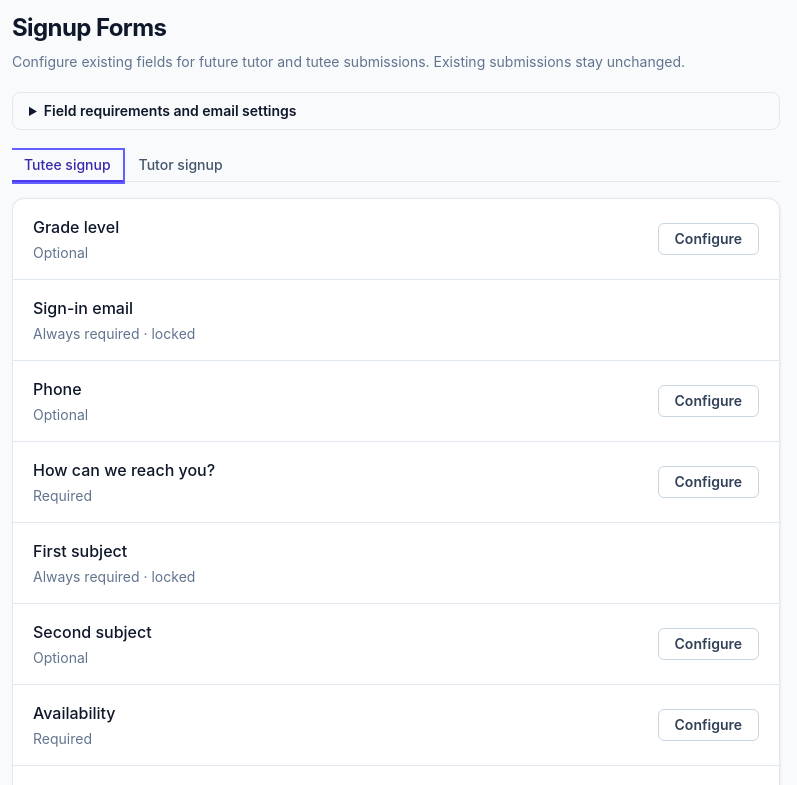
Scenario: lets keyboard users inspect signup tabs before activating another form
The width and height of the screenshot is (797, 785).
Step 1. Press ArrowRight in the tab "Tutee signup", box x1=12 y1=150 x2=123 y2=182
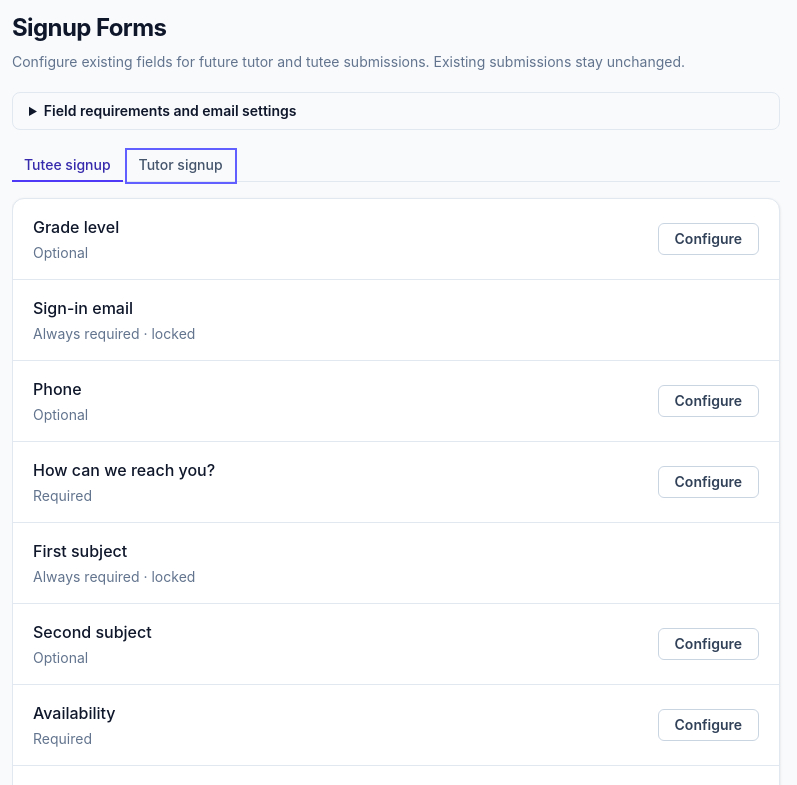
Expected: the text "Third subject" is not shown
Step 2. Click the tab "Tutor signup" → (181, 166), box x1=127 y1=150 x2=235 y2=182
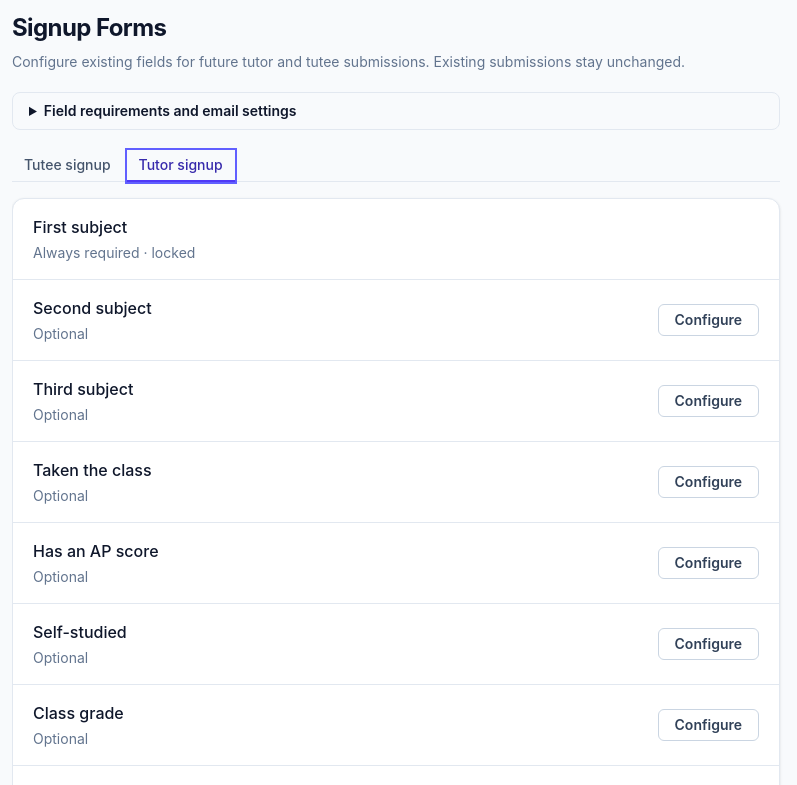
Now the text "Third subject" is shown, box x1=33 y1=377 x2=133 y2=401
